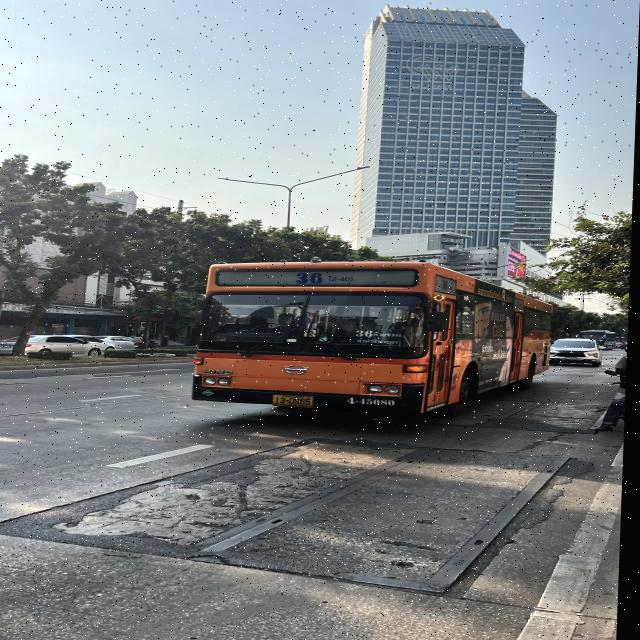BMTA-bus: (193, 259, 558, 418)
Bus-Line-Number: (287, 271, 363, 288)
Destination-Sign-Normal: (355, 326, 408, 346)
